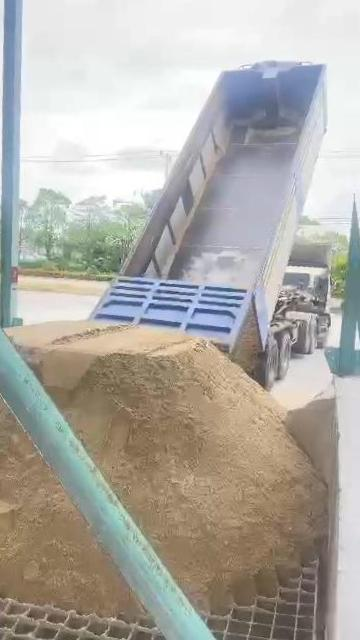sand: (10, 323, 324, 608), (0, 391, 138, 614), (287, 384, 337, 492)
